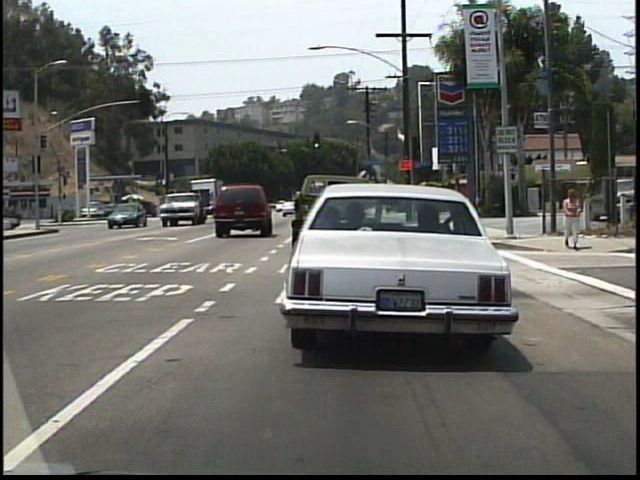person: (561, 183, 582, 249)
